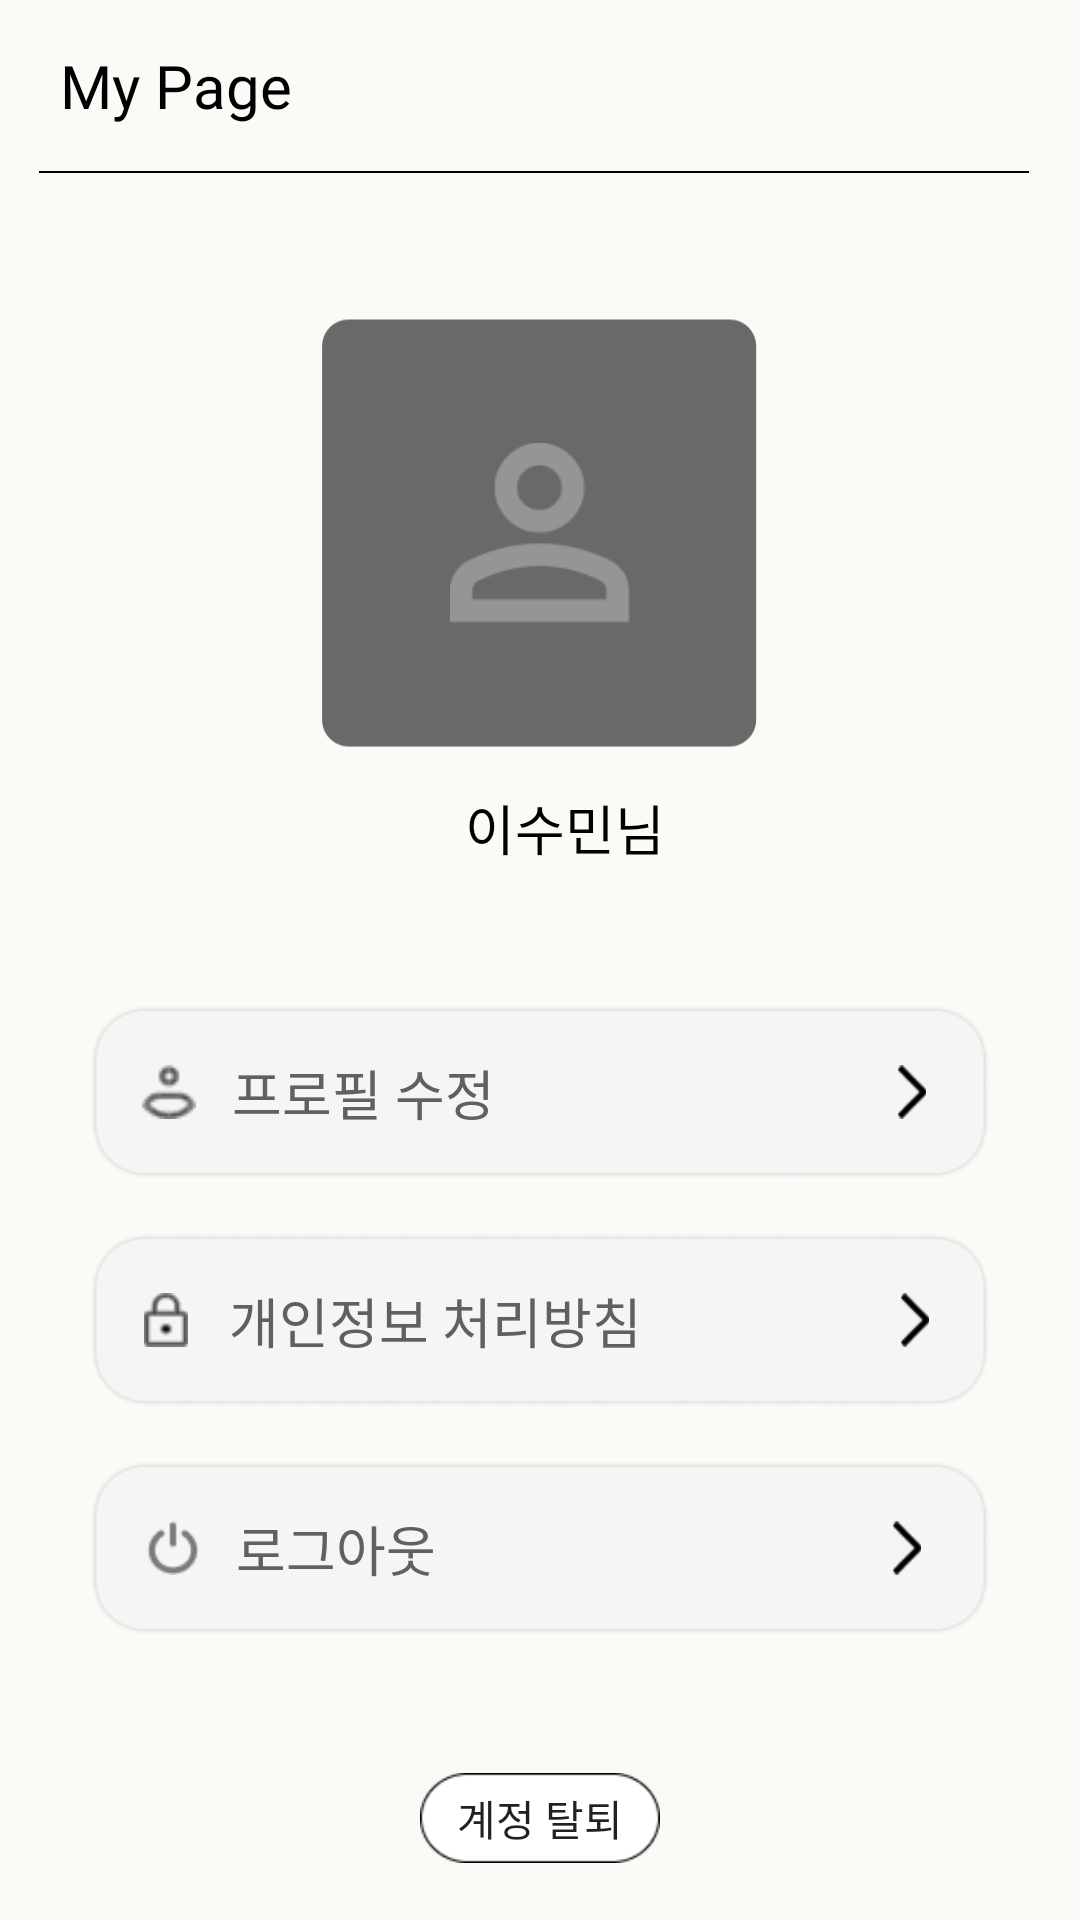

Screen size 1080x1920. Icon name, then its box in pixels as (x1, y1, x2, y2):
mypage arrow: (898, 1065, 926, 1119), (901, 1293, 929, 1347), (893, 1521, 921, 1575)
mypage profile change: (142, 1065, 196, 1119)
page personal info: (144, 1293, 188, 1347)
